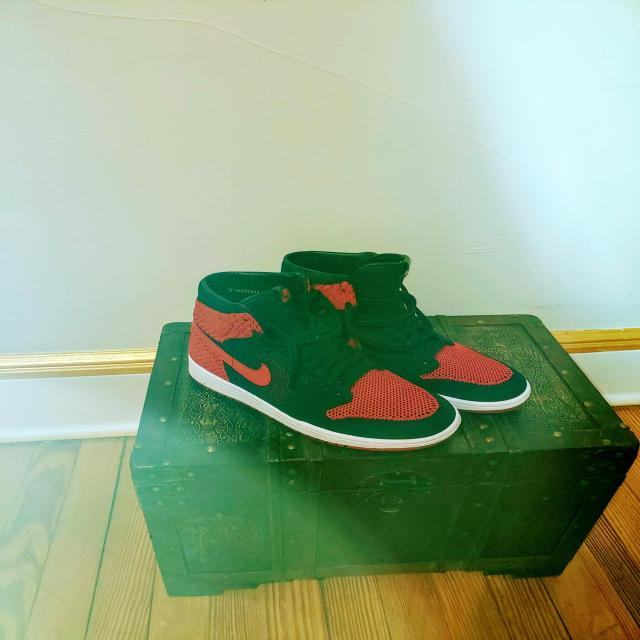shoe: (186, 268, 464, 452), (277, 248, 538, 420)
